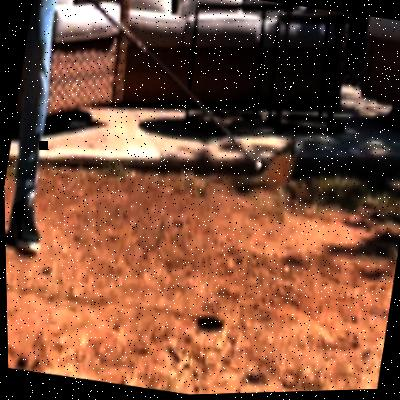GolfBall: (242, 121, 307, 203)
